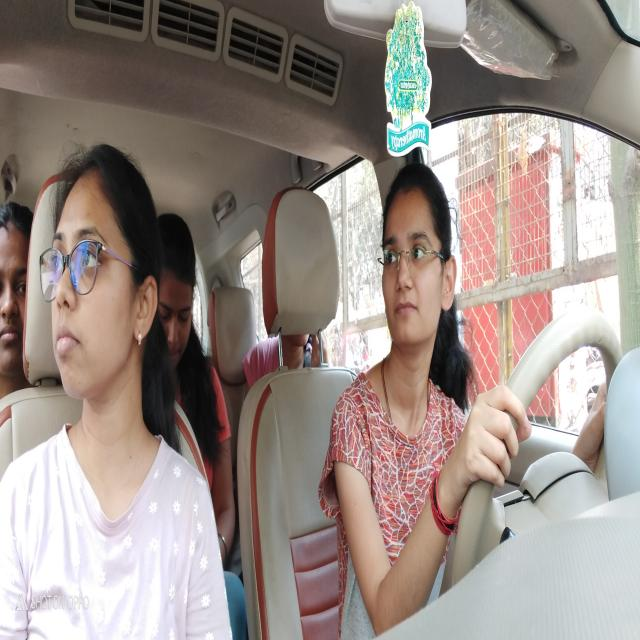LeftRight: (374, 160, 464, 392)
person: (37, 144, 158, 415), (158, 214, 200, 390), (0, 203, 30, 394)
